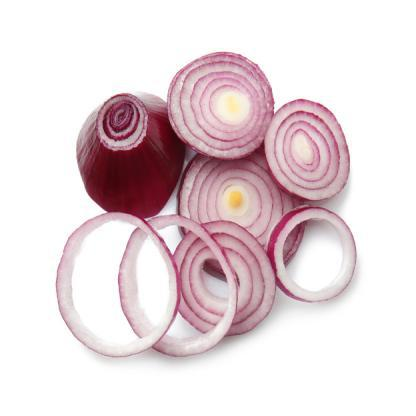onion: (74, 80, 176, 204), (180, 167, 294, 262), (172, 63, 256, 155), (264, 95, 340, 192)
